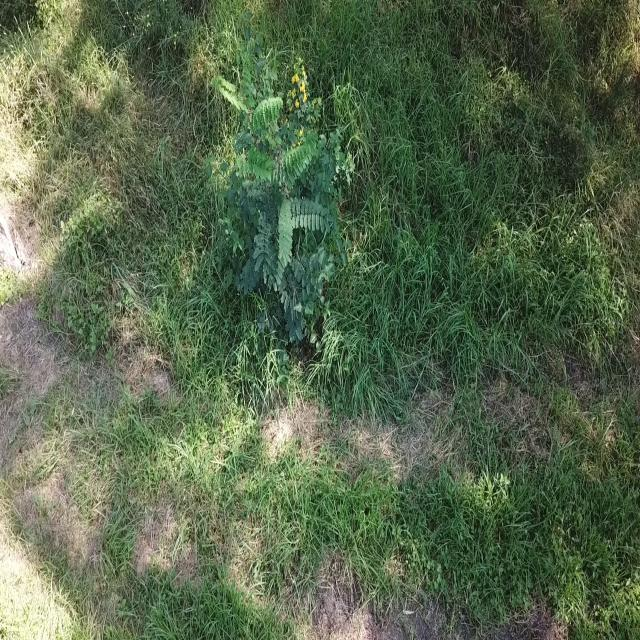Mysore-Thorn-Weed: (198, 54, 353, 356)
